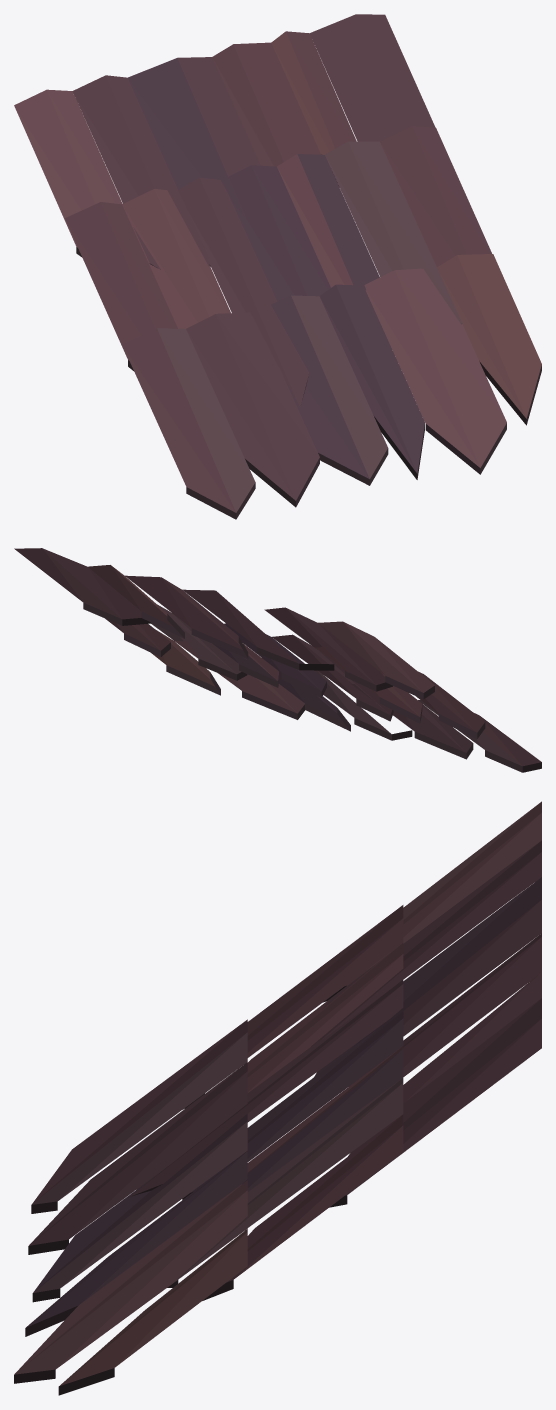
Rendered from SplitCedar17.glb.
3 renders of one model, top to bottom at view 1: azimuth 30°, elevation 25°; view 2: azimuth 150°, elevation 25°; view 3: azimuth 270°, elevation 25°, orthographic. The views are drawn at different scales.
Visible parts, largest first — view 1: SplitCedar17; view 2: SplitCedar17; view 3: SplitCedar17.
Boxes of the visible parts, bbox=[...] form: SplitCedar17: bbox=[14, 14, 541, 519]; SplitCedar17: bbox=[14, 548, 541, 772]; SplitCedar17: bbox=[14, 801, 541, 1395].
Bounding box in the file's own units: 2.02 × 1.57 × 1.83.
